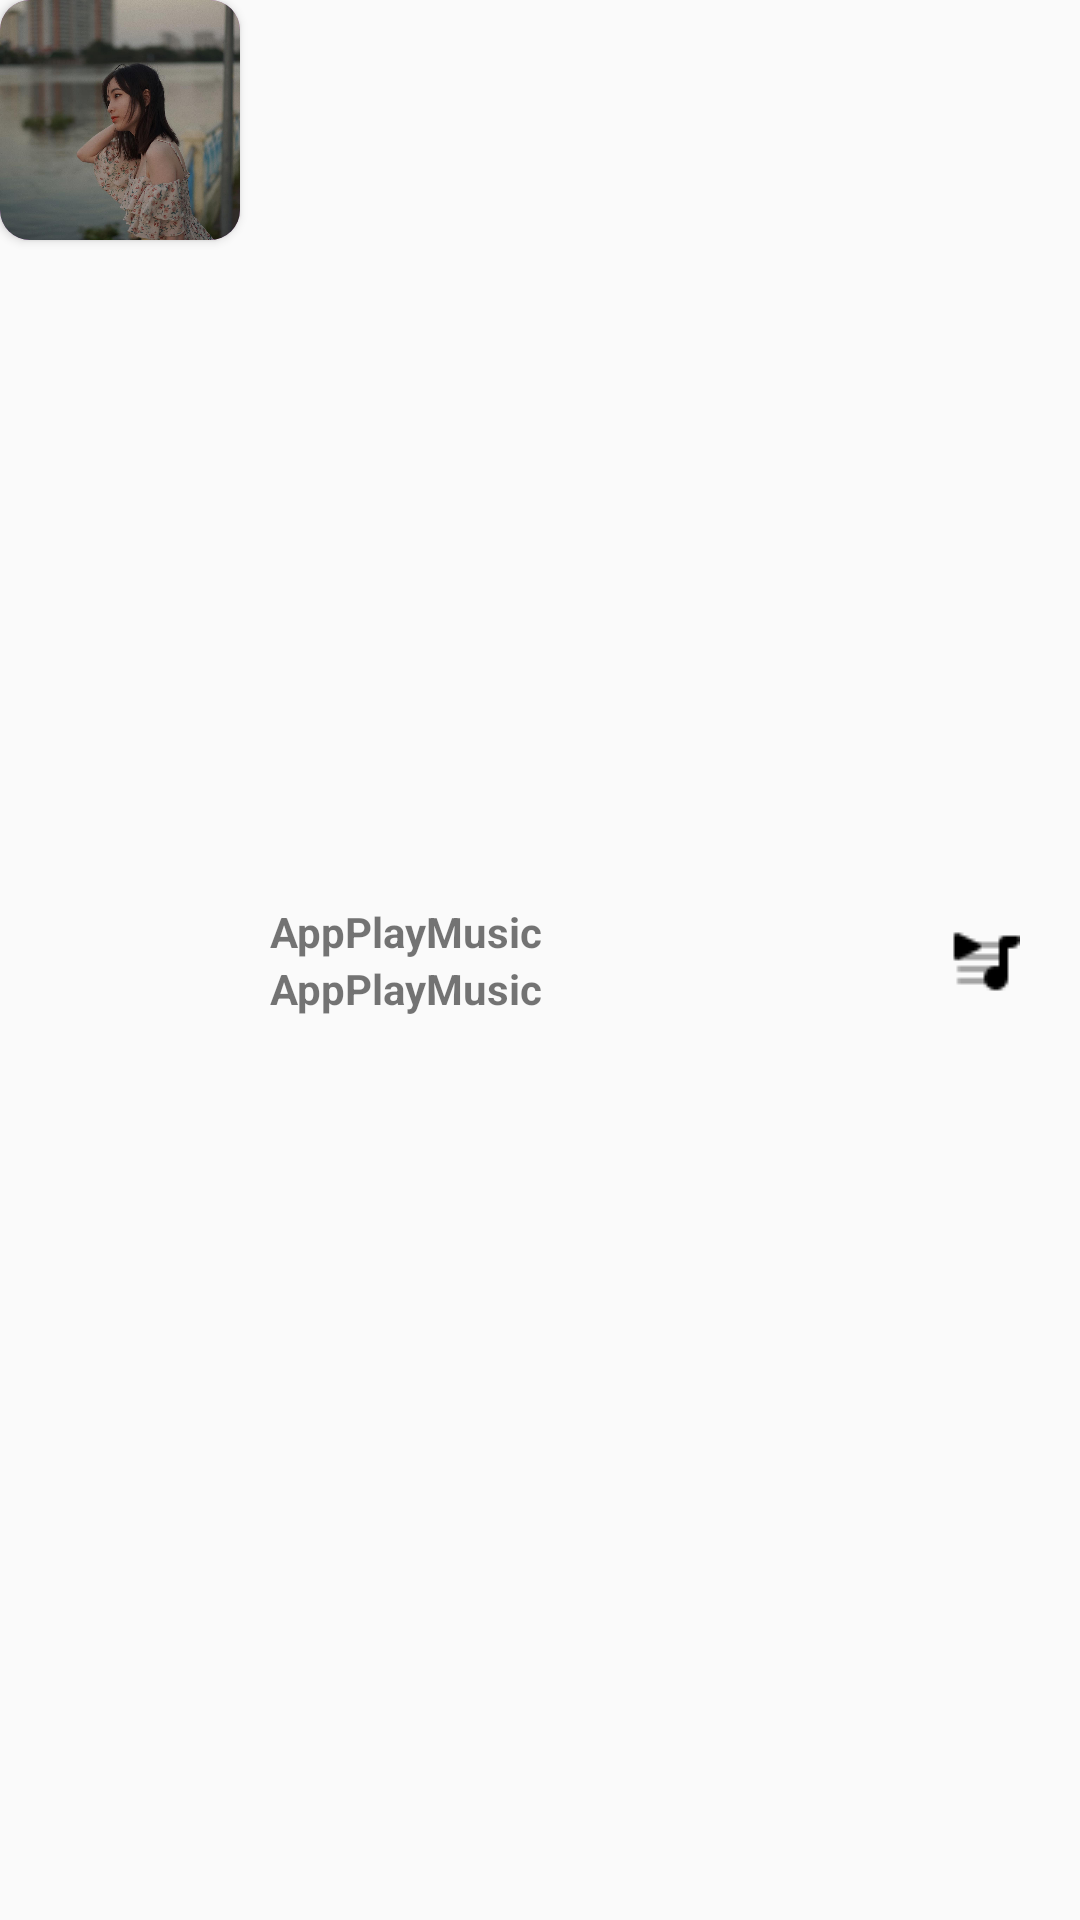

Where icons sit on this 1080 × 1920 app screen, as (x1, y1, x2, y2):
musicplaylist: (953, 932, 1020, 991)
